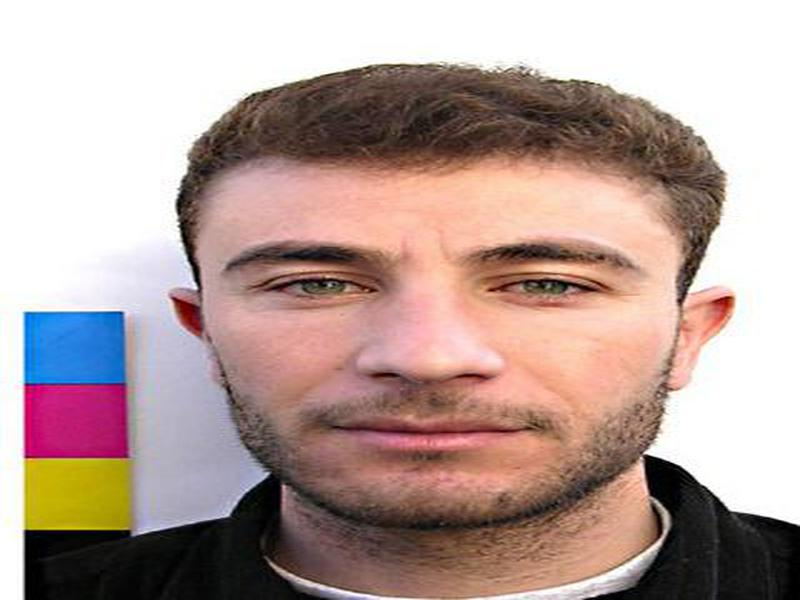without_mask: (191, 157, 680, 531)
